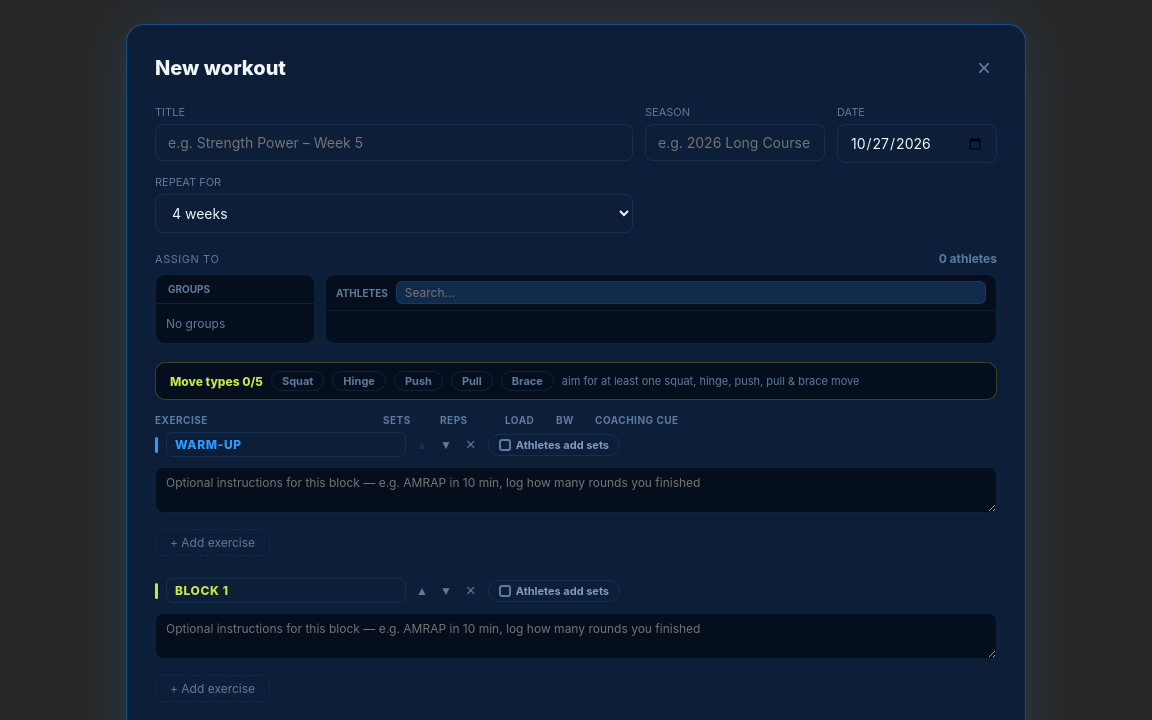
Test: new workouts default to planning a block; edits do not offer it
Note: dropping to 1 makes it an ordinary one-off save
Step 1. Select "Just this week" in the dropdown titled "Save this workout, then plan the whole block" → (394, 214), box 155,194 -> 633,233
(page scrolled)
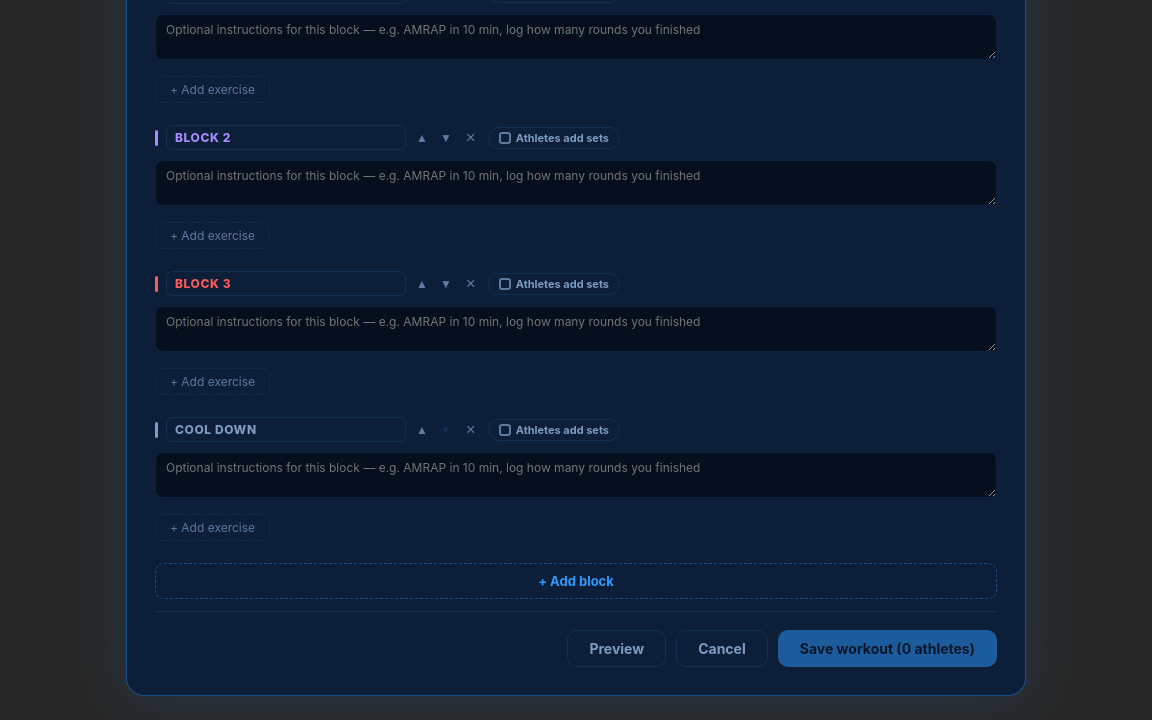
Expected: the button "Save workout (0 athletes)" is shown, 778,630 -> 997,667
